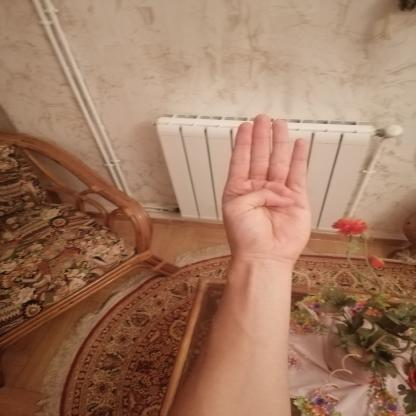KAAF: (209, 106, 322, 273)
